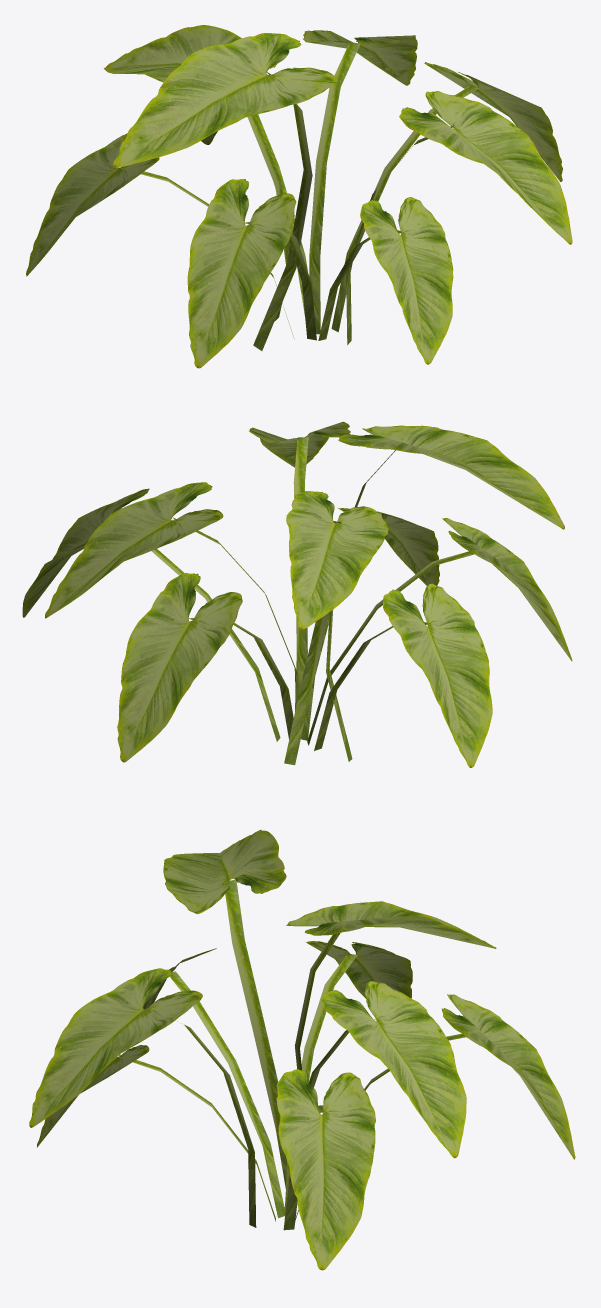
Rendered from ela_2s_LOD1.fbx.
3 renders of one model, top to bottom at view 1: azimuth 30°, elevation 25°; view 2: azimuth 150°, elevation 25°; view 3: azimuth 270°, elevation 25°, orthographic.
Visible parts, largest first — view 1: ela_LOD1; view 2: ela_LOD1; view 3: ela_LOD1.
Boxes of the visible parts, x1,y1,x2,y2 form: ela_LOD1: (26,25,572,368); ela_LOD1: (22,421,572,767); ela_LOD1: (29,830,575,1270).
Bounding box in the file's own units: 2382 × 1391 × 2214.
